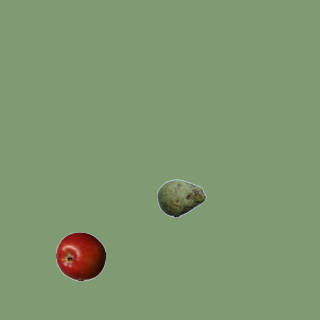Apple Braeburn: (55, 231, 105, 281)
Pear Stone: (156, 173, 206, 223)
